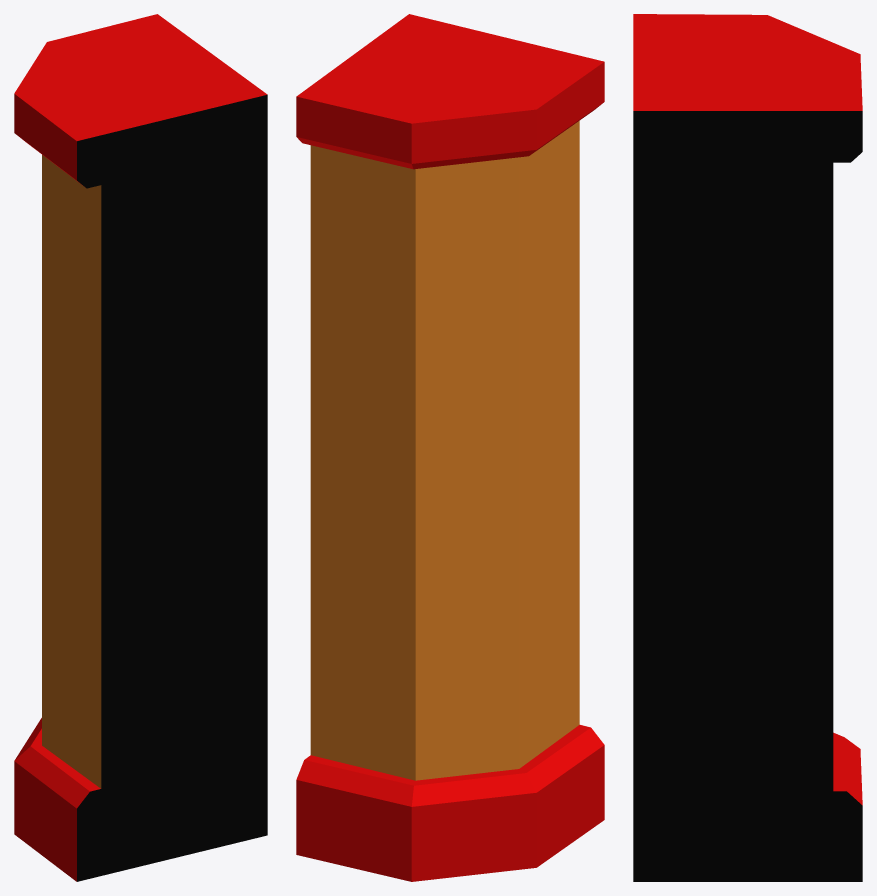
File: Phillar_1.fbx
The picture shows the model from 3 angles, left to right: view 1: azimuth 30°, elevation 25°; view 2: azimuth 150°, elevation 25°; view 3: azimuth 270°, elevation 25°; orthographic projection. The views are drawn at different scales.
Visible parts, largest first — view 1: Cube.012; view 2: Cube.012; view 3: Cube.012.
Part boxes in pixels (<box>): Cube.012: <box>14,14,267,881</box>; Cube.012: <box>296,14,604,881</box>; Cube.012: <box>633,14,862,881</box>.
Bounding box in the file's own units: 1.15 × 1.15 × 4.25.
